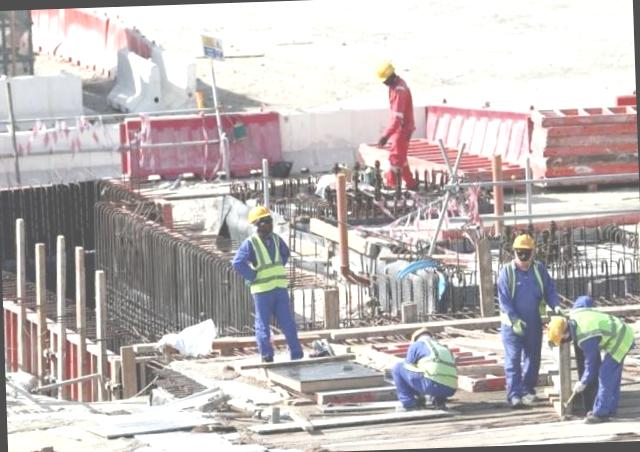helmet: (511, 232, 538, 258)
person: (537, 299, 640, 425), (492, 230, 556, 413), (238, 206, 304, 362), (366, 62, 417, 196)
